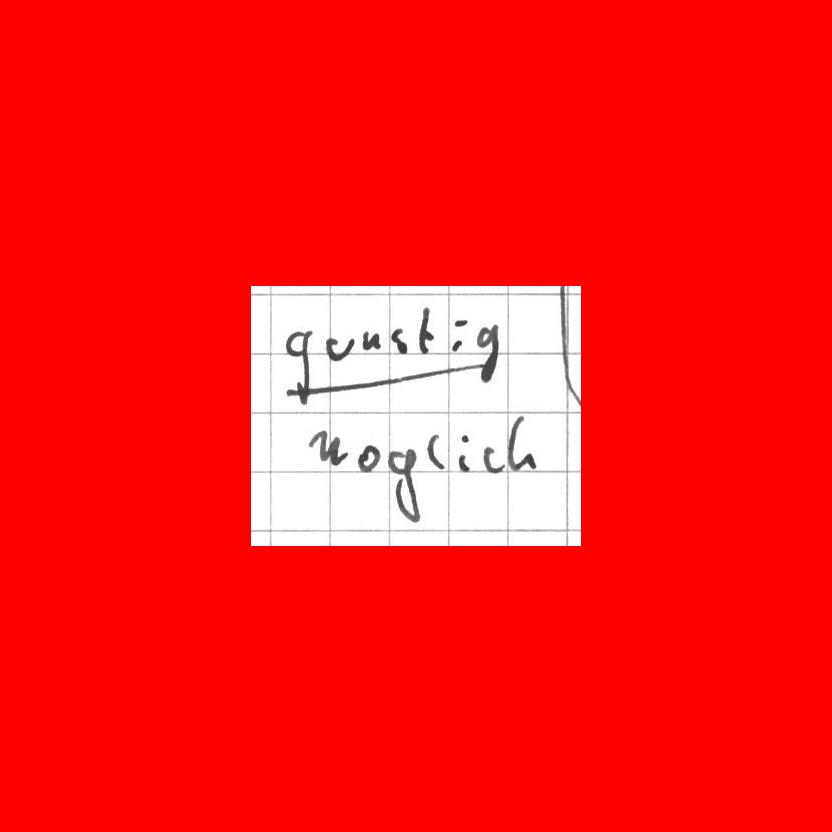Char: (281, 361, 484, 400), (387, 441, 423, 523), (282, 329, 316, 396), (473, 318, 501, 387), (507, 415, 539, 472), (306, 429, 348, 468), (414, 303, 435, 355), (323, 332, 354, 363), (425, 433, 447, 471), (357, 440, 381, 473), (448, 313, 469, 350), (481, 443, 504, 474), (457, 432, 473, 474), (360, 328, 383, 352), (389, 326, 407, 355)
